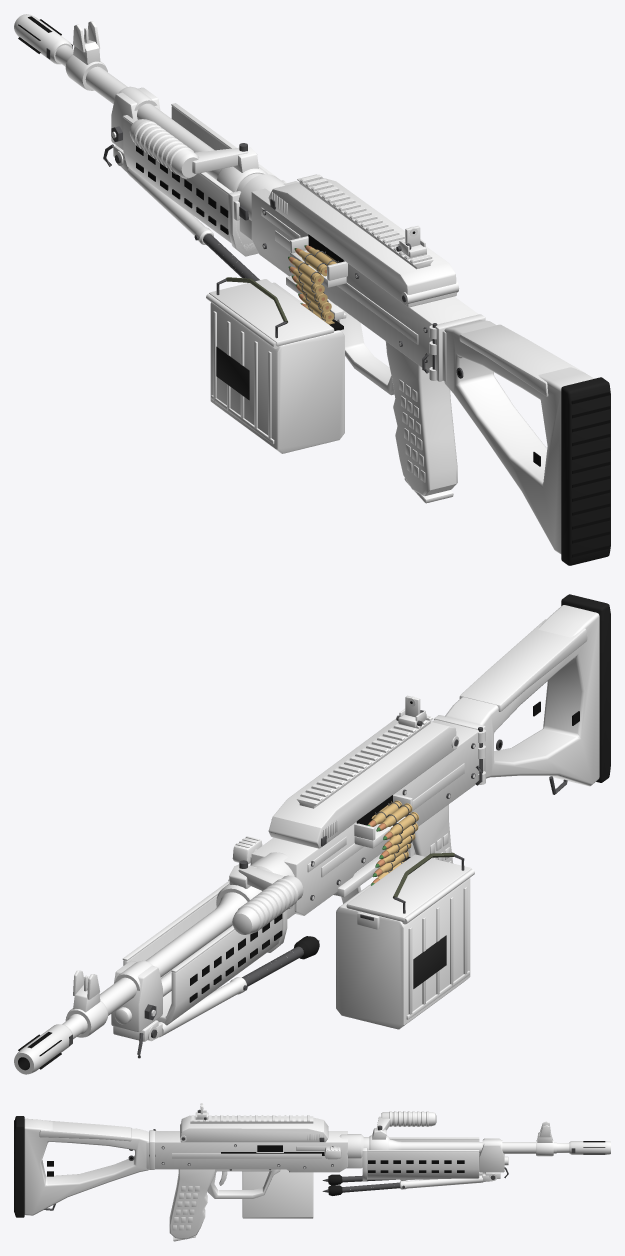
3 views of the same model, one above another, from view 1: azimuth 30°, elevation 25°; view 2: azimuth 150°, elevation 25°; view 3: azimuth 270°, elevation 25° (orthographic). The views are drawn at different scales.
Parts seen in each view (by area): view 1: body, mag; view 2: body, mag; view 3: body, mag, charging.
Part boxes in pixels (<box>): body: <box>14,14,610,565</box>; mag: <box>206,245,346,453</box>; body: <box>14,594,610,1074</box>; mag: <box>333,800,474,1029</box>; body: <box>14,1103,610,1241</box>; mag: <box>242,1169,313,1218</box>; charging: <box>324,1146,341,1159</box>.
Bounding box in the file's own units: 0.1565 × 0.2544 × 1.03.
